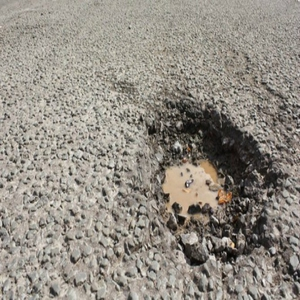pothole: (140, 100, 278, 268)
